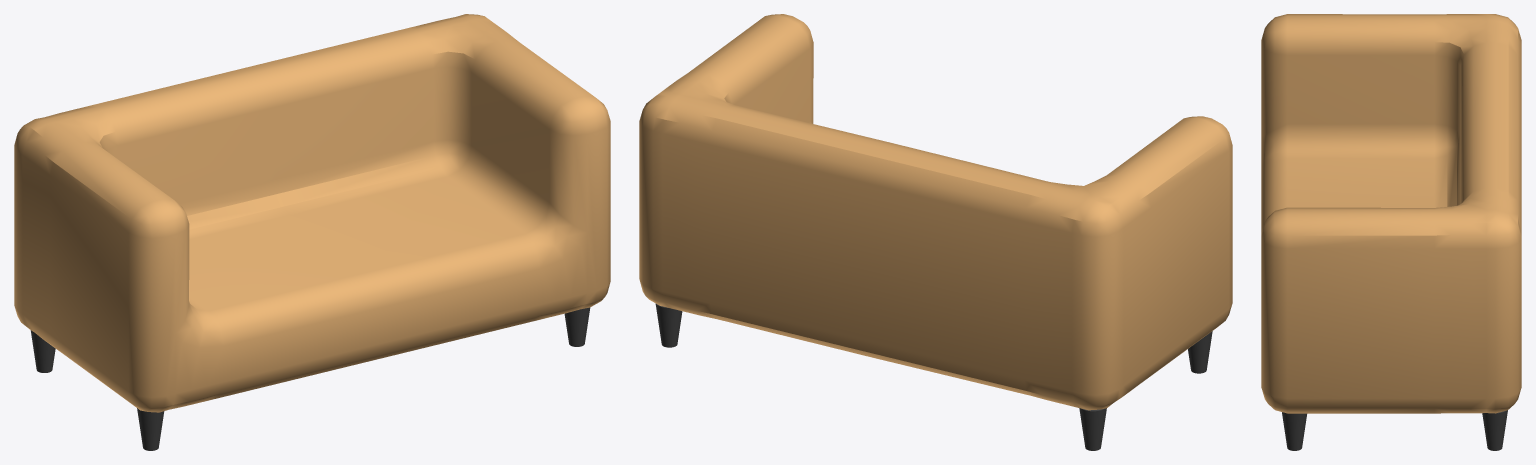
The model's file is Sofa.fbx.
The picture shows the model from 3 angles, left to right: view 1: azimuth 30°, elevation 25°; view 2: azimuth 150°, elevation 25°; view 3: azimuth 270°, elevation 25°; orthographic projection. The views are drawn at different scales.
Visible parts, largest first — view 1: Cube; view 2: Cube; view 3: Cube.
Boxes of the visible parts, left/top/right/bottom form: Cube: left=14, top=14, right=610, bottom=450; Cube: left=639, top=14, right=1232, bottom=450; Cube: left=1261, top=14, right=1521, bottom=450.
Bounding box in the file's own units: 200 × 99.54 × 100.
